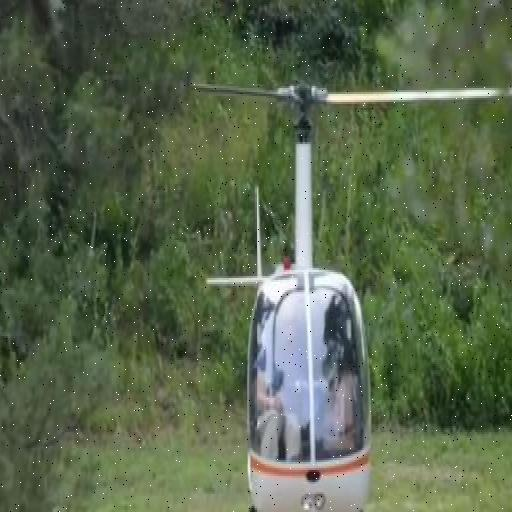helicopter: (188, 83, 512, 512)
